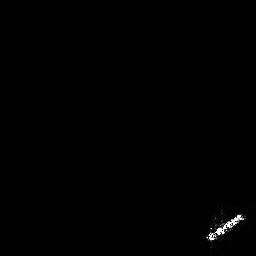ship: (202, 207, 248, 248)
